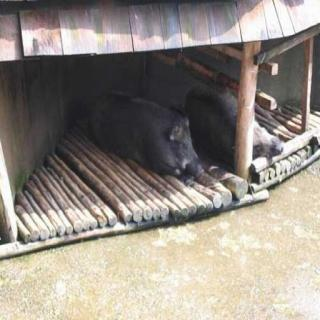Pig: (77, 82, 213, 209), (195, 81, 304, 195)
